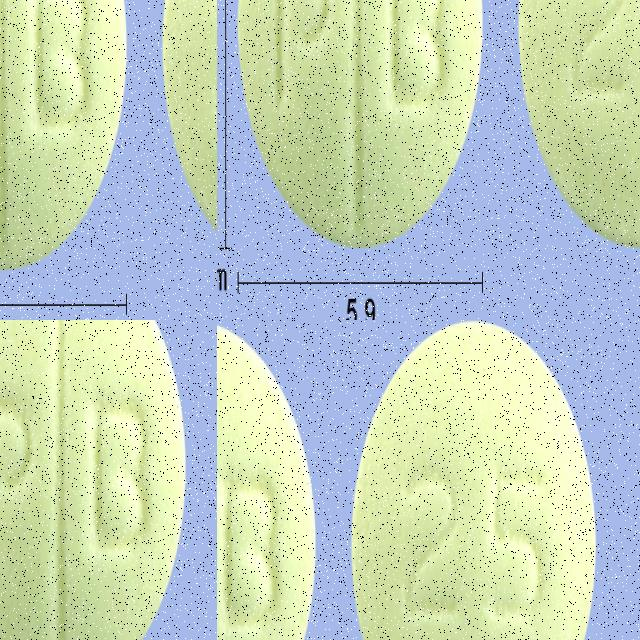Azabio - 50mg: (348, 320, 599, 640), (217, 320, 319, 640)
Celltrion Clarithromycin - 500mg: (0, 417, 217, 640)
Ciptec: (21, 67, 213, 320)
Clacin -500mg: (270, 76, 580, 320)
